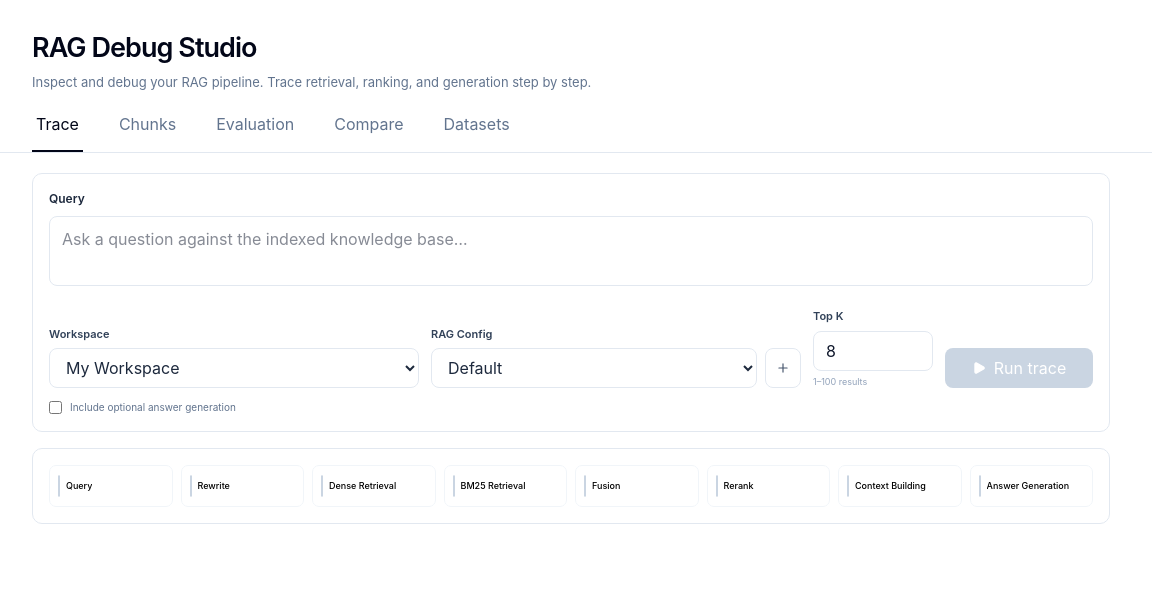
Test: RagDebugStudio › opens the dataset case editor
This screenshot has width=1152, height=608.
Step 1. Click the button "Datasets" → [477, 132], box top-left (440, 112), bottom-right (514, 152)
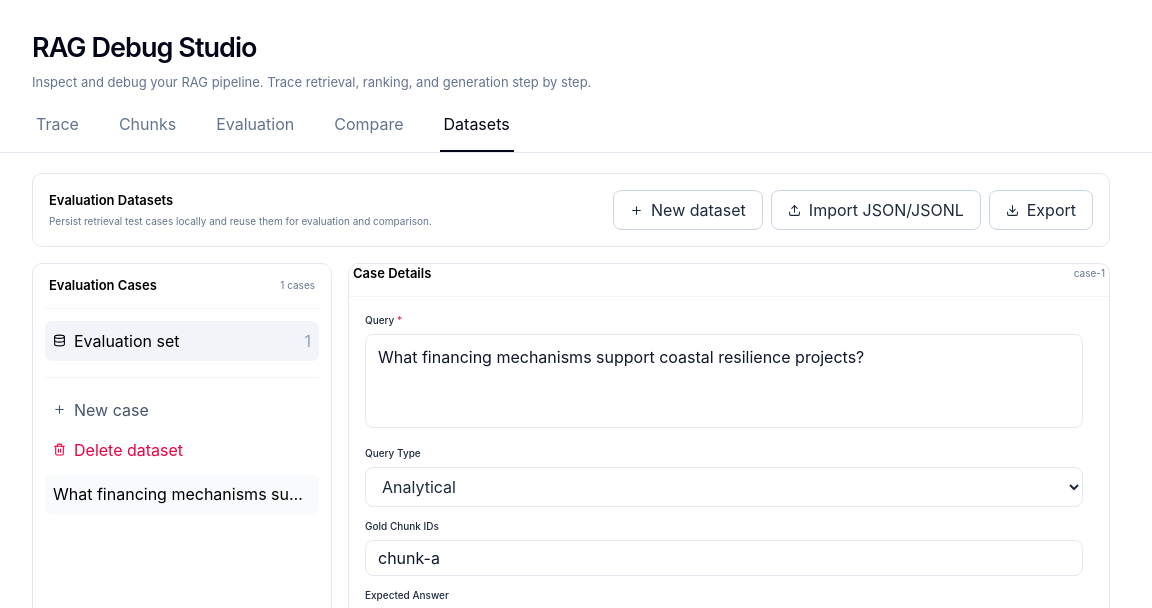
Result: the heading "Evaluation Cases" is shown at top-left (49, 276), bottom-right (157, 296)
Result: the heading "Case Details" is shown at top-left (353, 264), bottom-right (431, 284)
Result: the text box showing "What financing mechanisms support coastal resilience projects?" is shown at top-left (365, 334), bottom-right (1083, 428)
